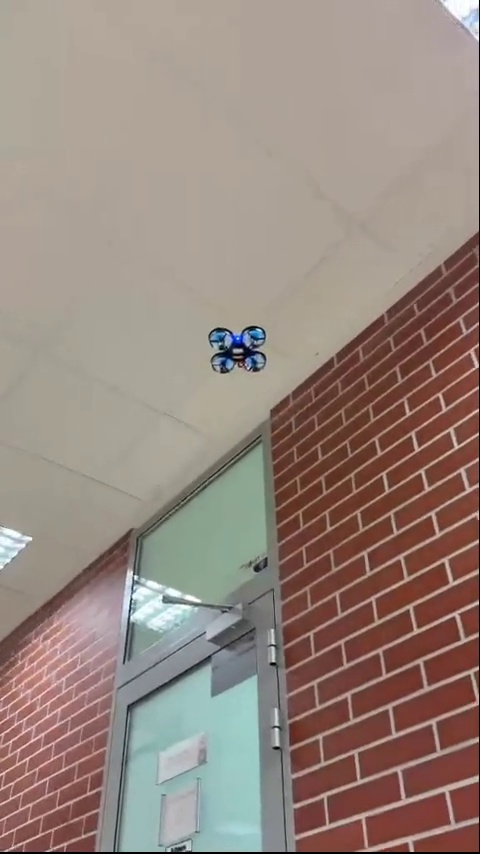drone: (203, 321, 270, 378)
